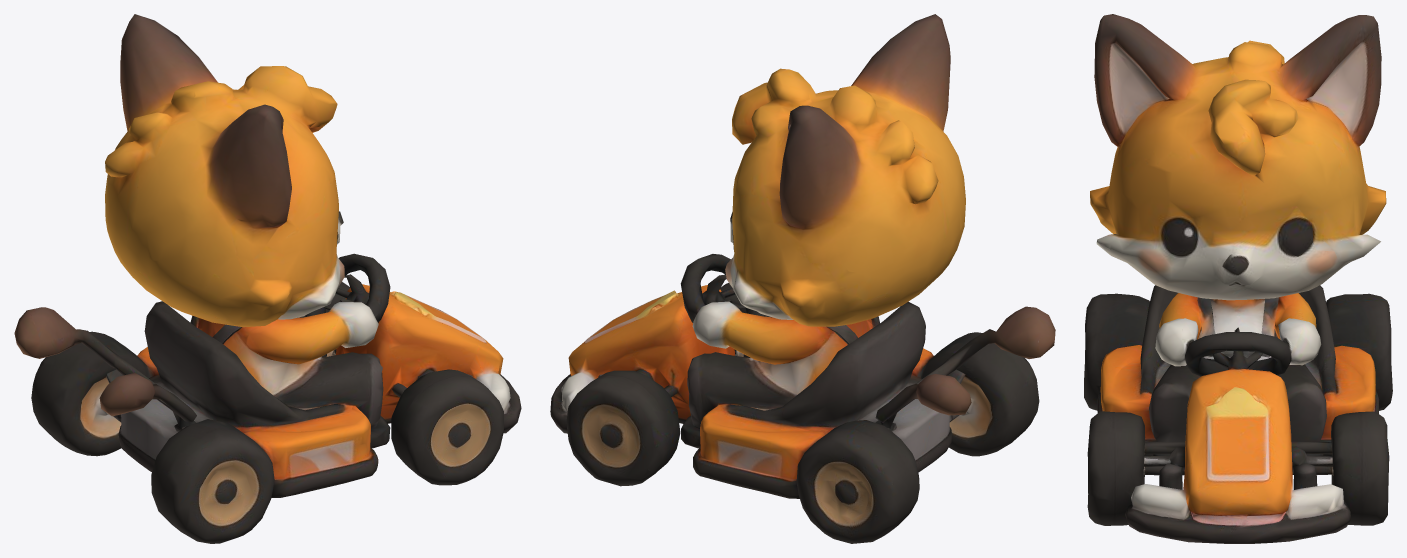
Rendered from fox.glb.
3 views of the same model, side by side, from view 1: azimuth 30°, elevation 25°; view 2: azimuth 150°, elevation 25°; view 3: azimuth 270°, elevation 25° (orthographic).
Parts seen in each view (by area): view 1: tripo_node_9ebfd6f9-8463-409e-ae0e-8d03772b3a0a; view 2: tripo_node_9ebfd6f9-8463-409e-ae0e-8d03772b3a0a; view 3: tripo_node_9ebfd6f9-8463-409e-ae0e-8d03772b3a0a.
Boxes of the visible parts, x1=… form: tripo_node_9ebfd6f9-8463-409e-ae0e-8d03772b3a0a: x1=14, y1=14, x2=521, y2=543; tripo_node_9ebfd6f9-8463-409e-ae0e-8d03772b3a0a: x1=550, y1=14, x2=1055, y2=543; tripo_node_9ebfd6f9-8463-409e-ae0e-8d03772b3a0a: x1=1084, y1=14, x2=1392, y2=543.
Size of the model in its own units: 1 by 0.9174 by 0.6153.
1 material, 1 textured.
